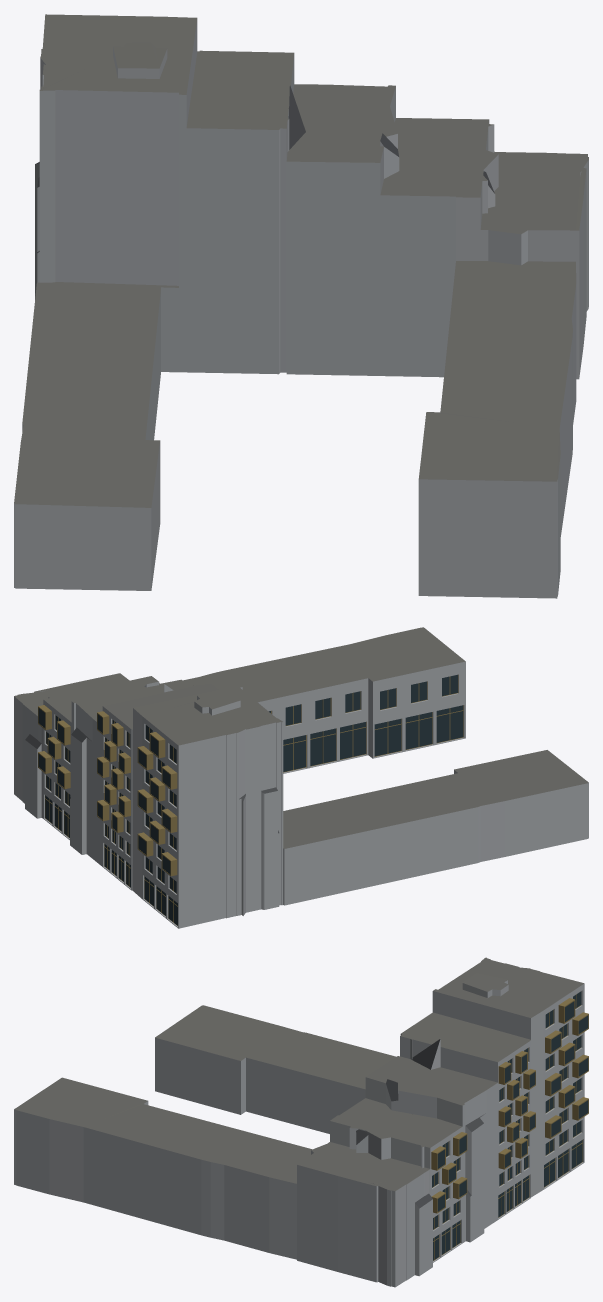
File: recipe-large-klaprozenweg-35-37-253708.glb
The picture shows the model from 3 angles, top to bottom: view 1: azimuth 30°, elevation 25°; view 2: azimuth 150°, elevation 25°; view 3: azimuth 270°, elevation 25°; orthographic projection. The views are drawn at different scales.
Parts seen in each view (by area): view 1: klaprozenweg-35-37-253708; view 2: klaprozenweg-35-37-253708; view 3: klaprozenweg-35-37-253708.
Boxes of the visible parts, x1,y1,x2,y2 form: klaprozenweg-35-37-253708: [14, 14, 588, 598]; klaprozenweg-35-37-253708: [14, 627, 588, 928]; klaprozenweg-35-37-253708: [14, 957, 588, 1287].
Bounding box in the file's own units: 70.58 × 26.89 × 75.33.
